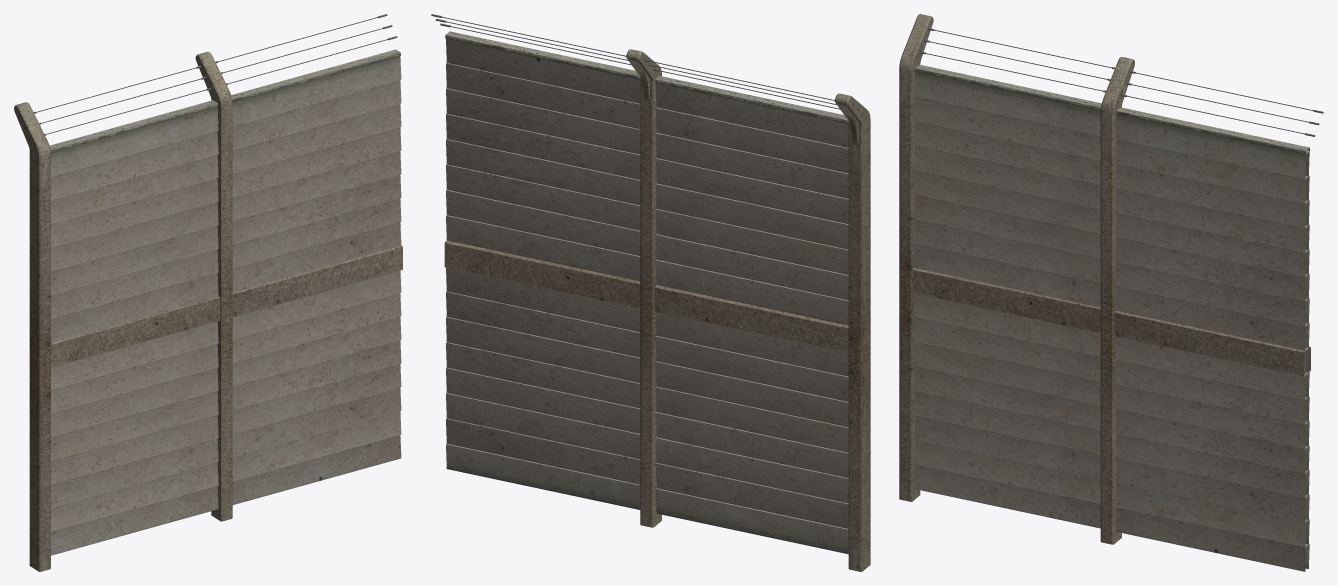
Rendered from object_29.007_lev2.glb.
3 views of the same model, side by side, from view 1: azimuth 30°, elevation 25°; view 2: azimuth 150°, elevation 25°; view 3: azimuth 330°, elevation 25° (orthographic). The views are drawn at different scales.
Parts seen in each view (by area): view 1: object_29.007_lev2; view 2: object_29.007_lev2; view 3: object_29.007_lev2.
Boxes of the visible parts, <box> form: object_29.007_lev2: <box>14,14,402,571</box>; object_29.007_lev2: <box>431,14,870,571</box>; object_29.007_lev2: <box>899,14,1323,571</box>.
Size of the model in its own units: 7.19 by 8.14 by 1.02.
Materials: 1 (1 with a texture image).
